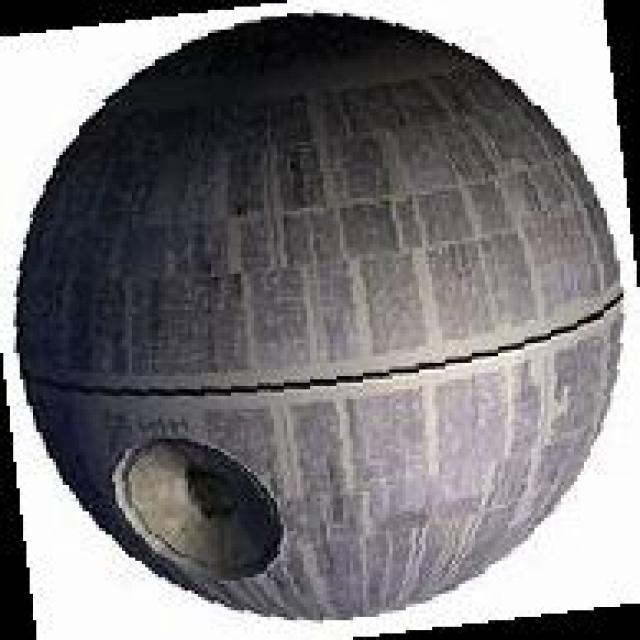Death Star: (27, 19, 610, 627)
